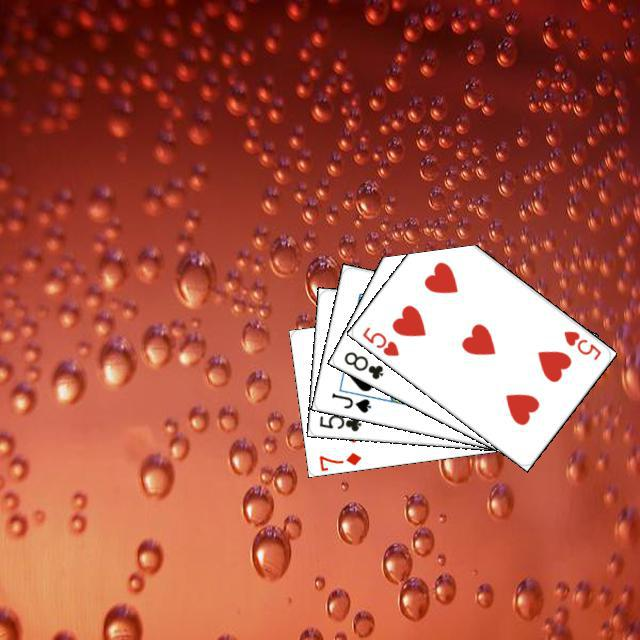5c: (314, 410, 363, 433)
5h: (357, 322, 401, 358), (559, 326, 603, 362)
7d: (314, 448, 363, 471)
8c: (339, 346, 385, 381)
Js: (327, 388, 373, 414)
